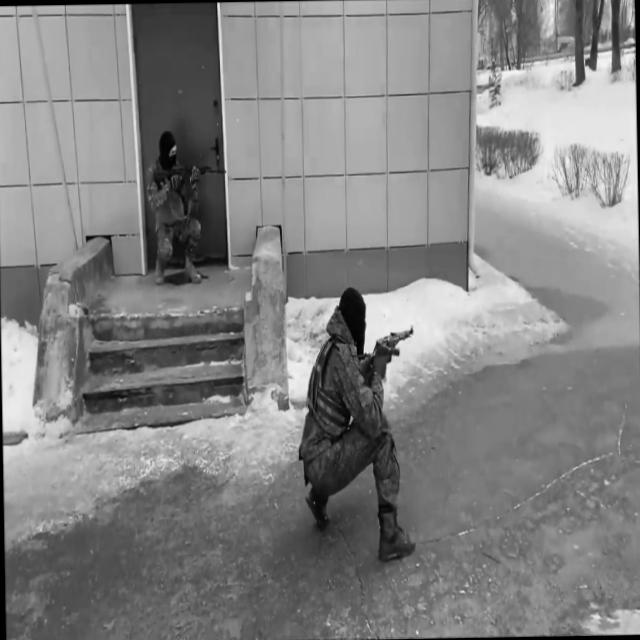gun: (356, 323, 414, 387), (153, 162, 227, 198)
person with a gun: (297, 286, 418, 564), (146, 128, 228, 286)
